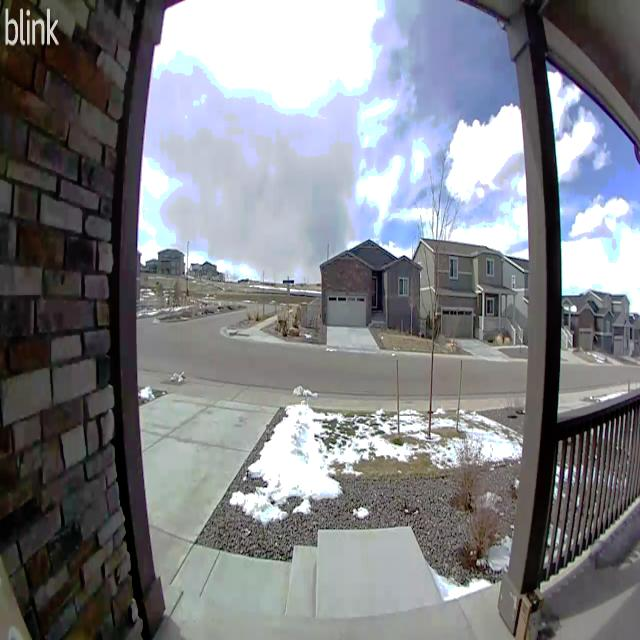Box: (513, 585, 546, 640)
